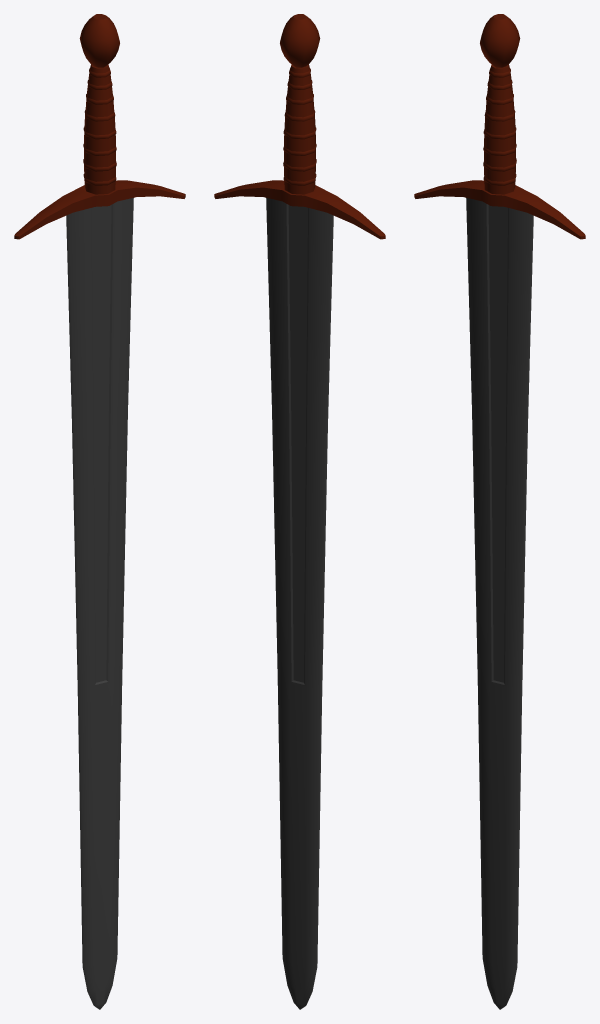
File: espada.fbx
The picture shows the model from 3 angles, left to right: view 1: azimuth 30°, elevation 25°; view 2: azimuth 150°, elevation 25°; view 3: azimuth 330°, elevation 25°; orthographic projection.
Visible parts, largest first — view 1: filo, empuñadura; view 2: filo, empuñadura; view 3: filo, empuñadura.
Part boxes in pixels (x1,y1,x2,y2): filo: (66, 197, 133, 1009); empuñadura: (14, 14, 185, 239); filo: (266, 197, 333, 1009); empuñadura: (214, 14, 385, 239); filo: (466, 198, 533, 1009); empuñadura: (414, 14, 585, 239).
Bounding box in the file's own units: 28.62 × 158 × 6.46.
